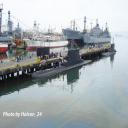submarine: (31, 48, 95, 80), (103, 41, 120, 59), (37, 46, 52, 57)
